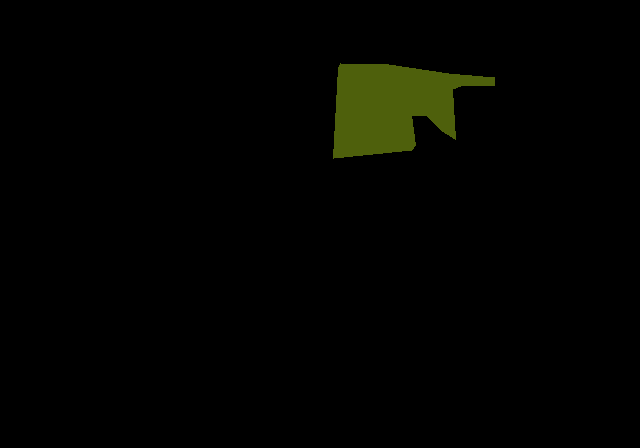Train: (333, 63, 495, 158)
